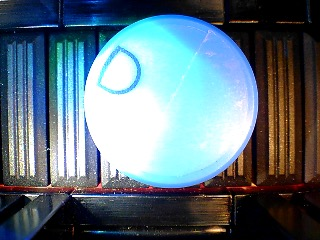MIPO1: (83, 13, 258, 187)
